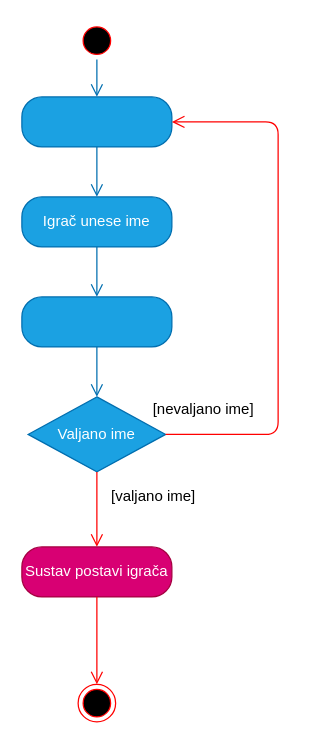
The diagram is 313 pixels wide and 744 high, and some of its shapes have lost their labels. Each missing label, with the centre of its shape:
"Sustav prikaže unos imena" goes at (96,121).
"Sustav provjeri valjanost imena" goes at (96,321).
